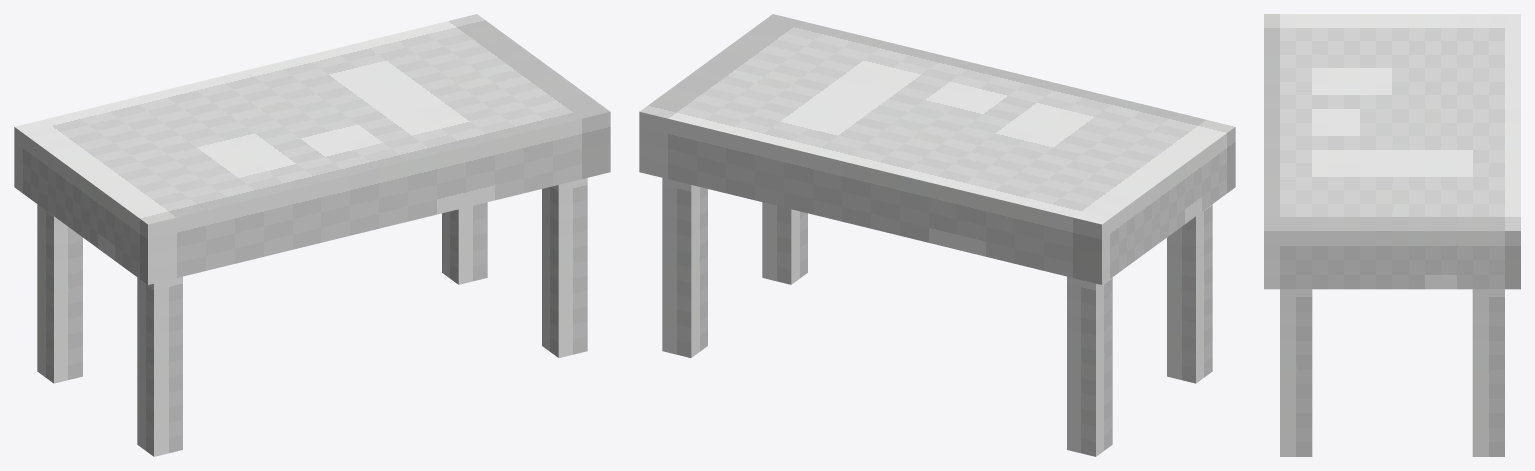
Rendered from table.gltf.
3 views of the same model, side by side, from view 1: azimuth 30°, elevation 25°; view 2: azimuth 150°, elevation 25°; view 3: azimuth 270°, elevation 25° (orthographic). The views are drawn at different scales.
Visible parts, largest first — view 1: tablero, pata_suroeste, pata_sureste, pata_noroeste, pata_noreste; view 2: tablero, pata_noroeste, pata_noreste, pata_suroeste, pata_sureste; view 3: tablero, pata_noreste, pata_sureste.
Boxes of the visible parts, box(x1,y1,x2,y2) form: tablero: box(14, 14, 610, 284); pata_suroeste: box(137, 276, 182, 456); pata_sureste: box(542, 178, 587, 357); pata_noroeste: box(37, 204, 82, 383); pata_noreste: box(442, 202, 487, 284); tablero: box(639, 14, 1235, 284); pata_noroeste: box(1067, 276, 1112, 456); pata_noreste: box(662, 178, 707, 357); pata_suroeste: box(1167, 204, 1212, 383); pata_sureste: box(762, 202, 807, 284); tablero: box(1264, 14, 1520, 289); pata_noreste: box(1472, 289, 1504, 456); pata_sureste: box(1280, 289, 1312, 456).
Size of the model in its own units: 2 by 1 by 1.
Materials: 3 (3 with a texture image).
